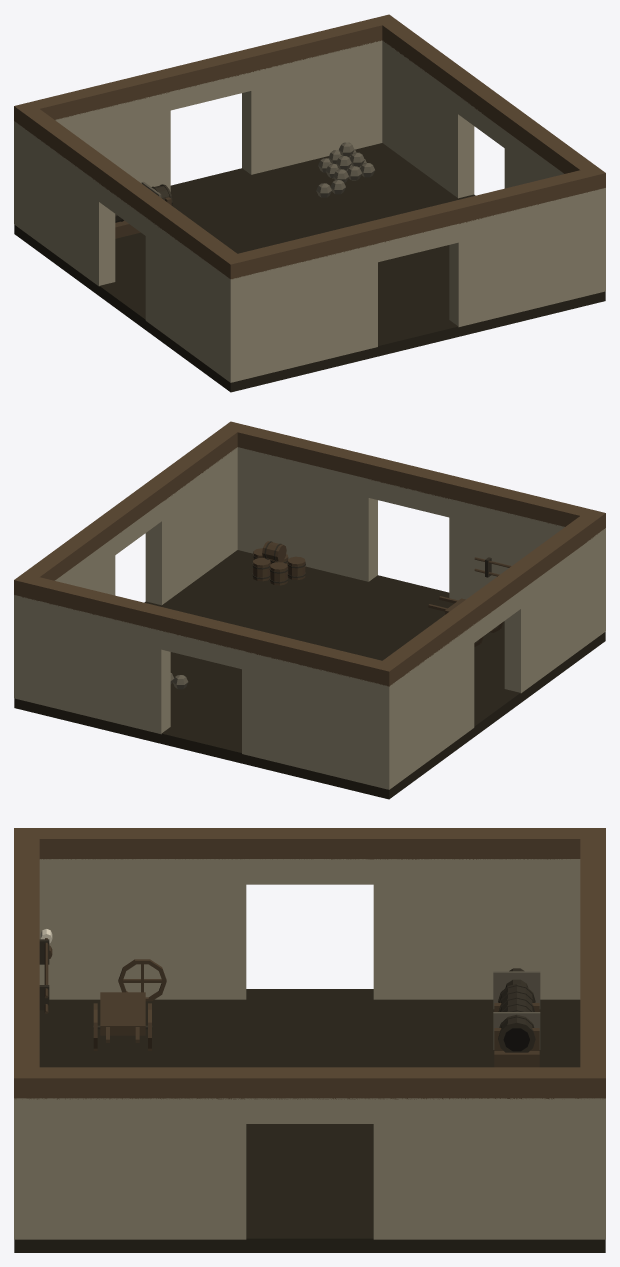
File: LateArtilleryYard.fbx
The picture shows the model from 3 angles, top to bottom: view 1: azimuth 30°, elevation 25°; view 2: azimuth 150°, elevation 25°; view 3: azimuth 270°, elevation 25°; orthographic projection. The views are drawn at different scales.
Parts seen in each view (by area): view 1: LateArtilleryYard; view 2: LateArtilleryYard; view 3: LateArtilleryYard.
Part boxes in pixels (<box>): LateArtilleryYard: <box>14,14,605,392</box>; LateArtilleryYard: <box>14,421,605,799</box>; LateArtilleryYard: <box>14,828,605,1252</box>.
Size of the model in its own units: 1202 by 392 by 1202.
8 materials, 8 textured.
